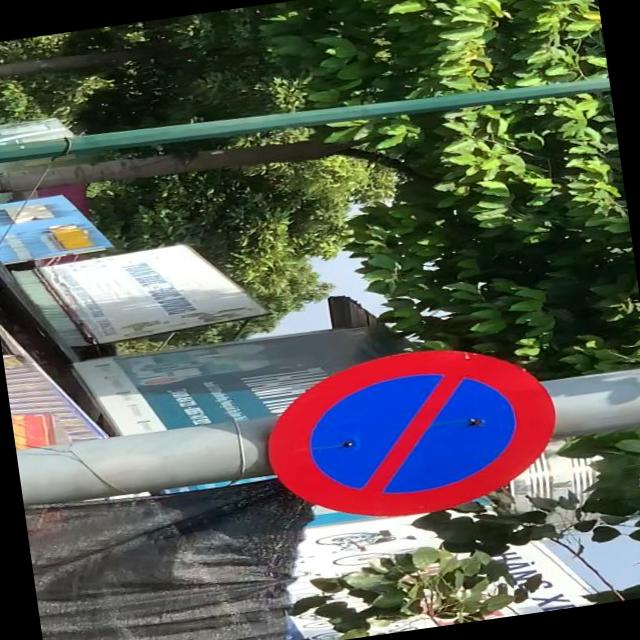P-131a: (259, 329, 567, 530)
